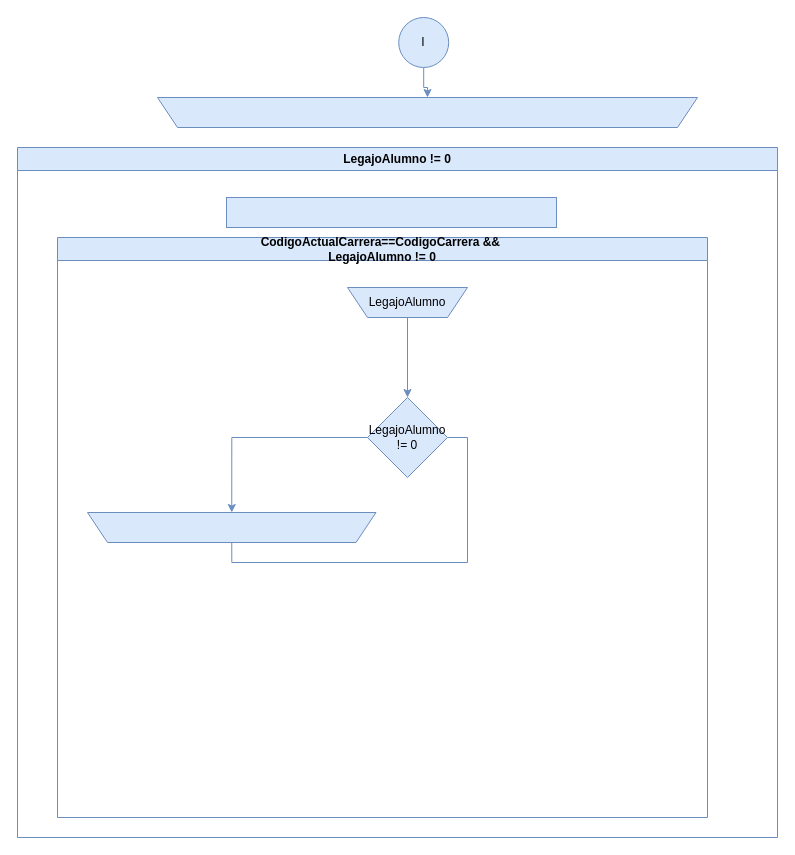
Image size: 795x855. Some labels were removed from this diagram. The centre of each missing label's shape, as x and y in pixels:
CodigoActualCarrera=CodigoCarrera: the point at 391,212
CodigoCarrera,CodigoMateria, Modalidad,Horario: the point at 231,527
LegajoAlumno,CodigoCarrera,CodigoMateria,Modalidad,Horario: the point at 427,112
